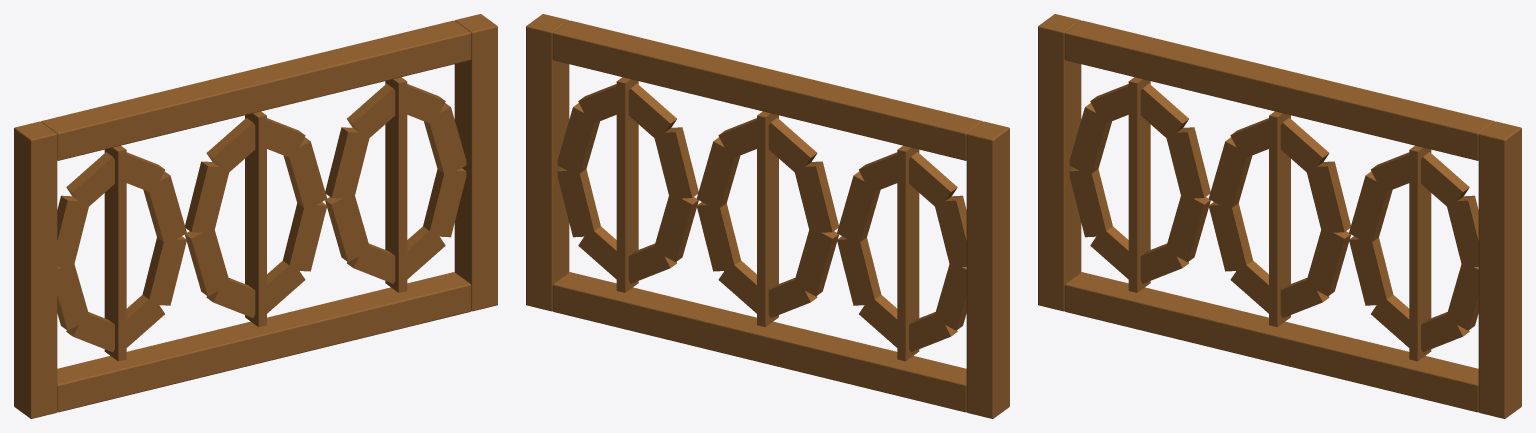
3 views of the same model, side by side, from view 1: azimuth 30°, elevation 25°; view 2: azimuth 150°, elevation 25°; view 3: azimuth 330°, elevation 25° (orthographic).
Visible parts, largest first — view 1: PANEL_TopRail, PANEL_BottomRail, PANEL_Stile, PANEL_Stile.001, CARVE_Stem, CARVE_Stem.001, CARVE_Stem.002, CARVE_Petal.012, CARVE_Petal.020, CARVE_Petal.008, CARVE_Petal.016, CARVE_Petal (+19 smaller); view 2: PANEL_TopRail, PANEL_BottomRail, PANEL_Stile, PANEL_Stile.001, CARVE_Stem, CARVE_Stem.001, CARVE_Stem.002, CARVE_Petal.020, CARVE_Petal.012, CARVE_Petal.016, CARVE_Petal, CARVE_Petal.008 (+19 smaller); view 3: PANEL_TopRail, PANEL_BottomRail, PANEL_Stile.001, PANEL_Stile, CARVE_Stem.001, CARVE_Stem, CARVE_Stem.002, CARVE_Petal.001, CARVE_Petal.009, CARVE_Petal.005, CARVE_Petal.021, CARVE_Petal.013 (+19 smaller).
Boxes of the visible parts, <box> form: PANEL_TopRail: <box>41,20,471,160</box>; PANEL_BottomRail: <box>57,272,471,412</box>; PANEL_Stile: <box>14,121,57,418</box>; PANEL_Stile.001: <box>454,14,497,311</box>; CARVE_Stem: <box>385,77,407,292</box>; CARVE_Stem.001: <box>104,145,126,361</box>; CARVE_Stem.002: <box>245,111,266,327</box>; CARVE_Petal.012: <box>185,161,229,232</box>; CARVE_Petal.020: <box>325,127,369,198</box>; CARVE_Petal.008: <box>142,236,186,305</box>; CARVE_Petal.016: <box>283,202,327,271</box>; CARVE_Petal: <box>423,168,466,237</box>; PANEL_TopRail: <box>552,20,982,160</box>; PANEL_BottomRail: <box>552,272,966,412</box>; PANEL_Stile: <box>966,121,1009,418</box>; PANEL_Stile.001: <box>526,14,569,311</box>; CARVE_Stem: <box>616,77,638,292</box>; CARVE_Stem.001: <box>897,145,919,361</box>; CARVE_Stem.002: <box>757,111,778,327</box>; CARVE_Petal.020: <box>653,127,698,198</box>; CARVE_Petal.012: <box>793,161,838,232</box>; CARVE_Petal.016: <box>696,202,740,271</box>; CARVE_Petal: <box>557,168,600,237</box>; CARVE_Petal.008: <box>837,236,881,305</box>; PANEL_TopRail: <box>1064,20,1494,160</box>; PANEL_BottomRail: <box>1064,272,1478,412</box>; PANEL_Stile.001: <box>1478,121,1521,418</box>; PANEL_Stile: <box>1038,14,1081,311</box>; CARVE_Stem.001: <box>1128,77,1150,292</box>; CARVE_Stem: <box>1409,145,1431,361</box>; CARVE_Stem.002: <box>1269,111,1290,327</box>; CARVE_Petal.001: <box>1165,127,1210,198</box>; CARVE_Petal.009: <box>1305,161,1350,232</box>; CARVE_Petal.005: <box>1069,168,1112,237</box>; CARVE_Petal.021: <box>1349,236,1393,305</box>; CARVE_Petal.013: <box>1208,202,1252,271</box>.
Size of the model in its own units: 1.4 by 0.8 by 0.09.
